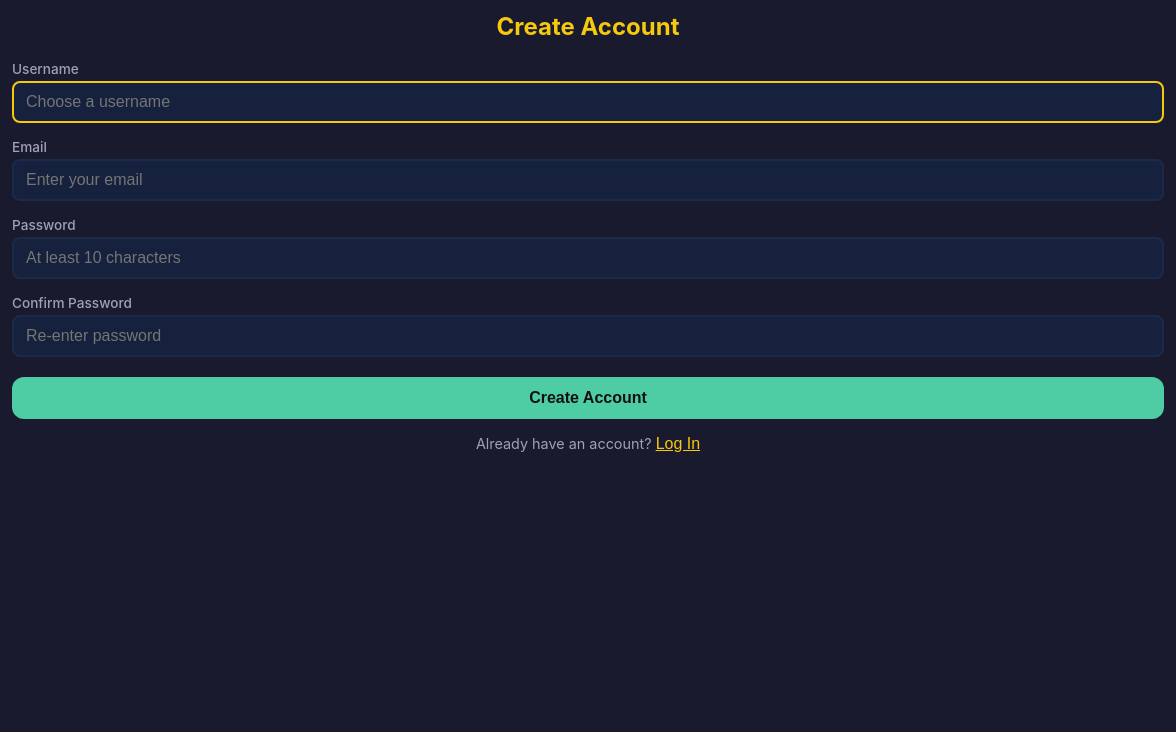
Test: RegisterForm › shows server error on registration failure
In the field labelled "Username": (588, 102) [12, 81, 1164, 123], type "testuser"
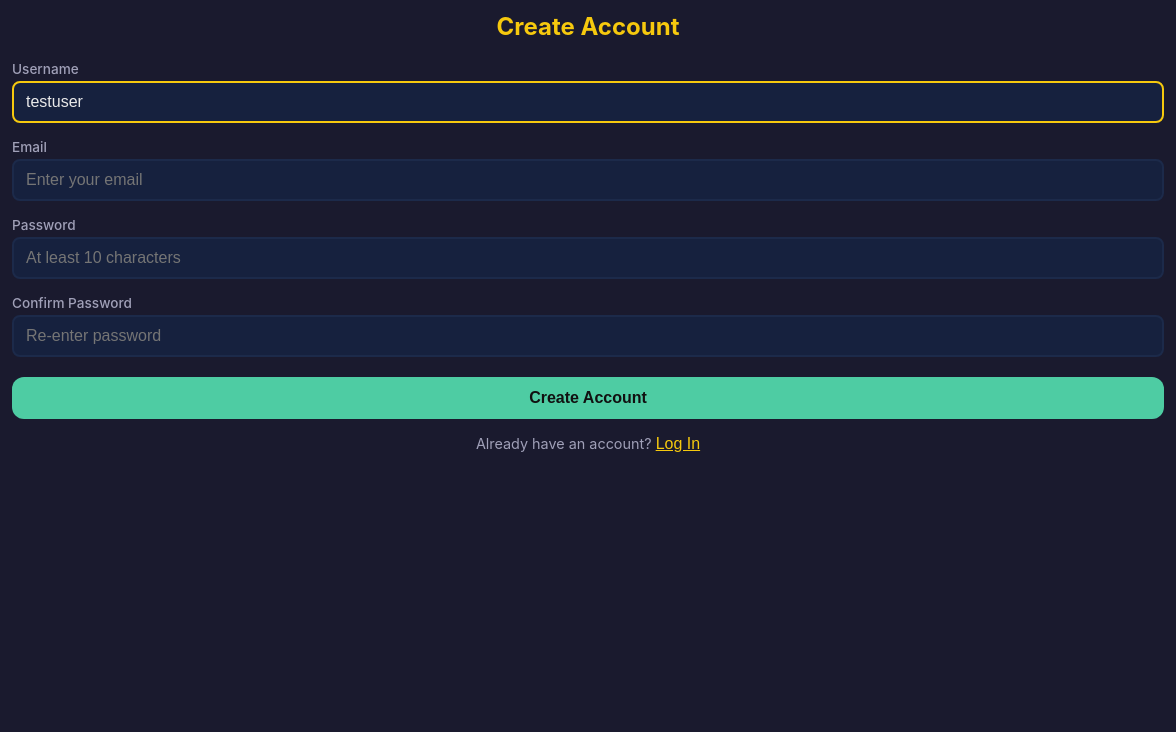
In the field labelled "Email": (588, 180) [12, 159, 1164, 201], type "used@example.com"
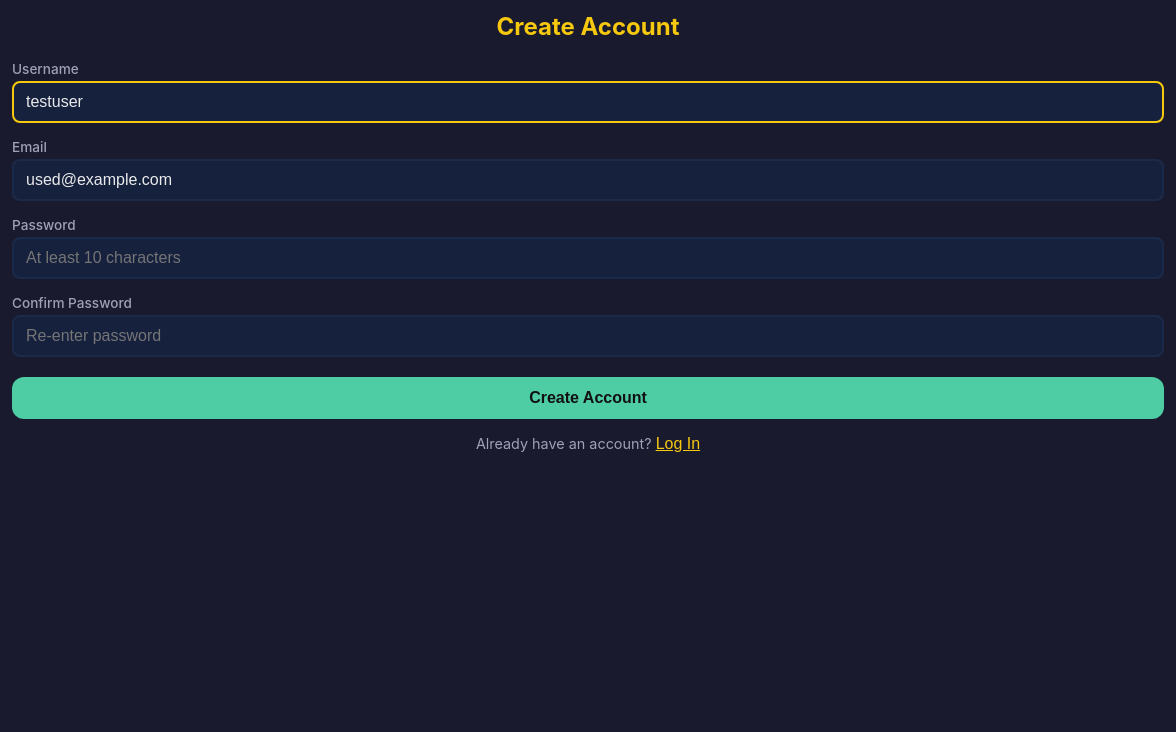
In the password field labelled "Password": (588, 258) [12, 237, 1164, 279], type "password123!"
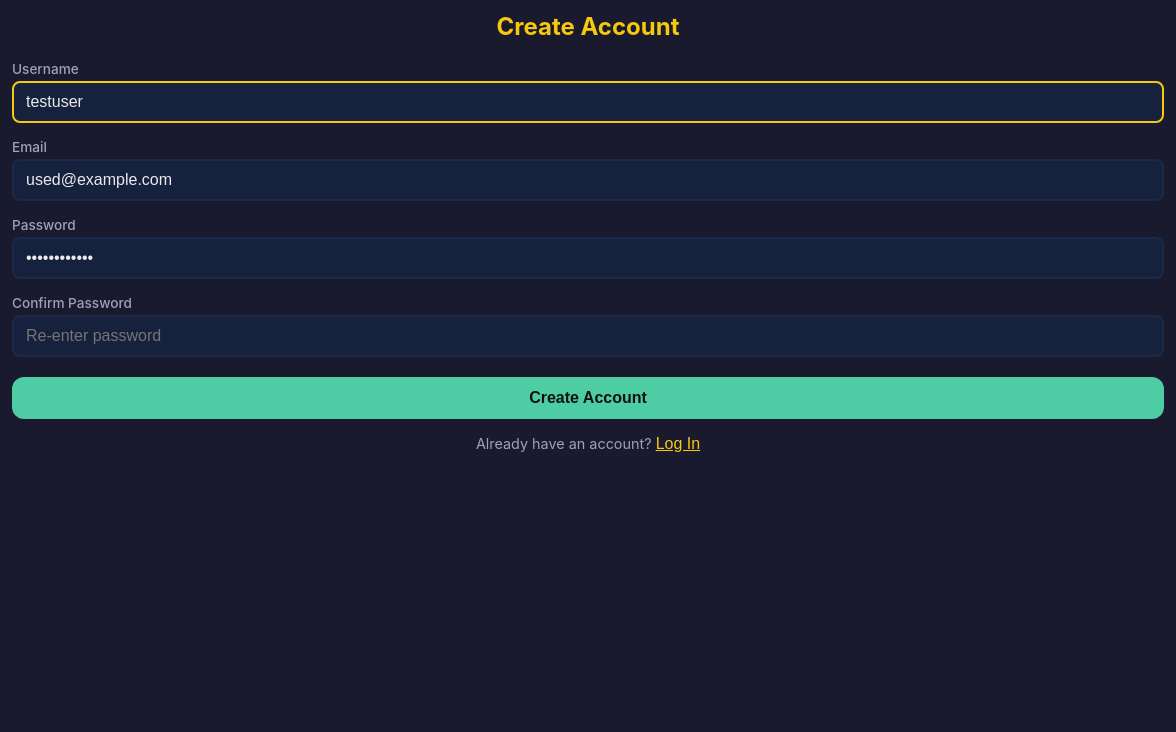
In the password field labelled "Confirm Password": (588, 336) [12, 315, 1164, 357], type "password123!"
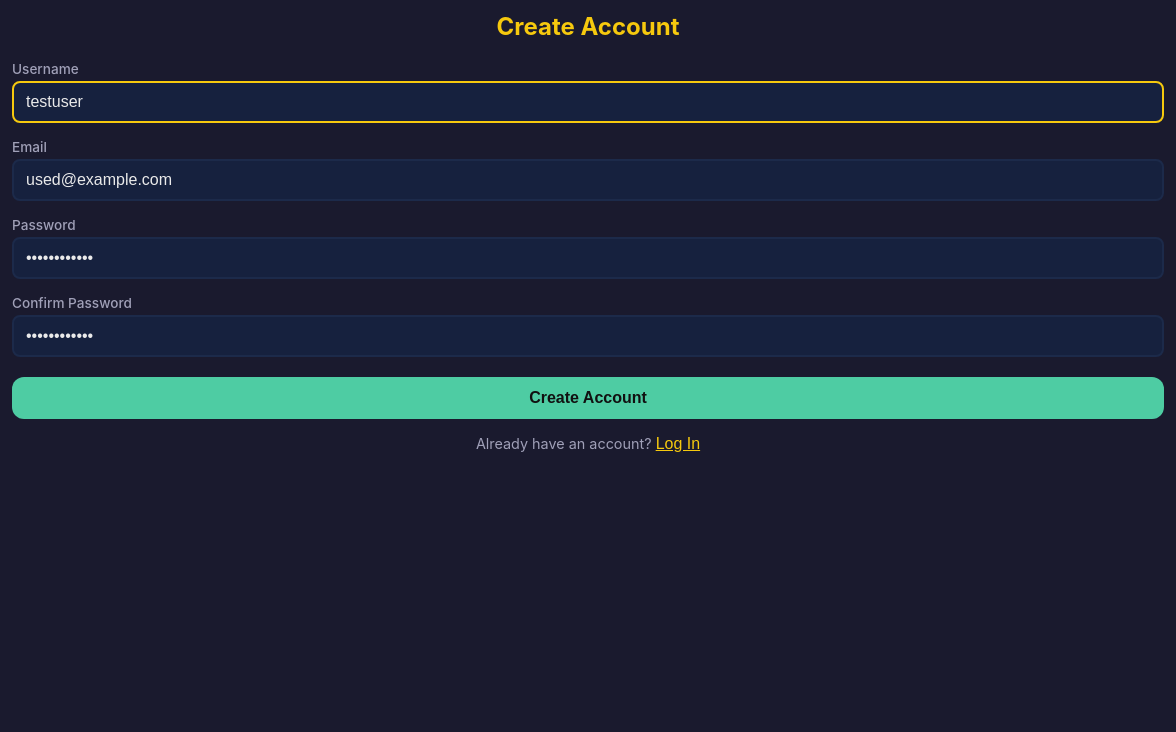
Submit the form labelled "Username", box [12, 12, 1164, 453]
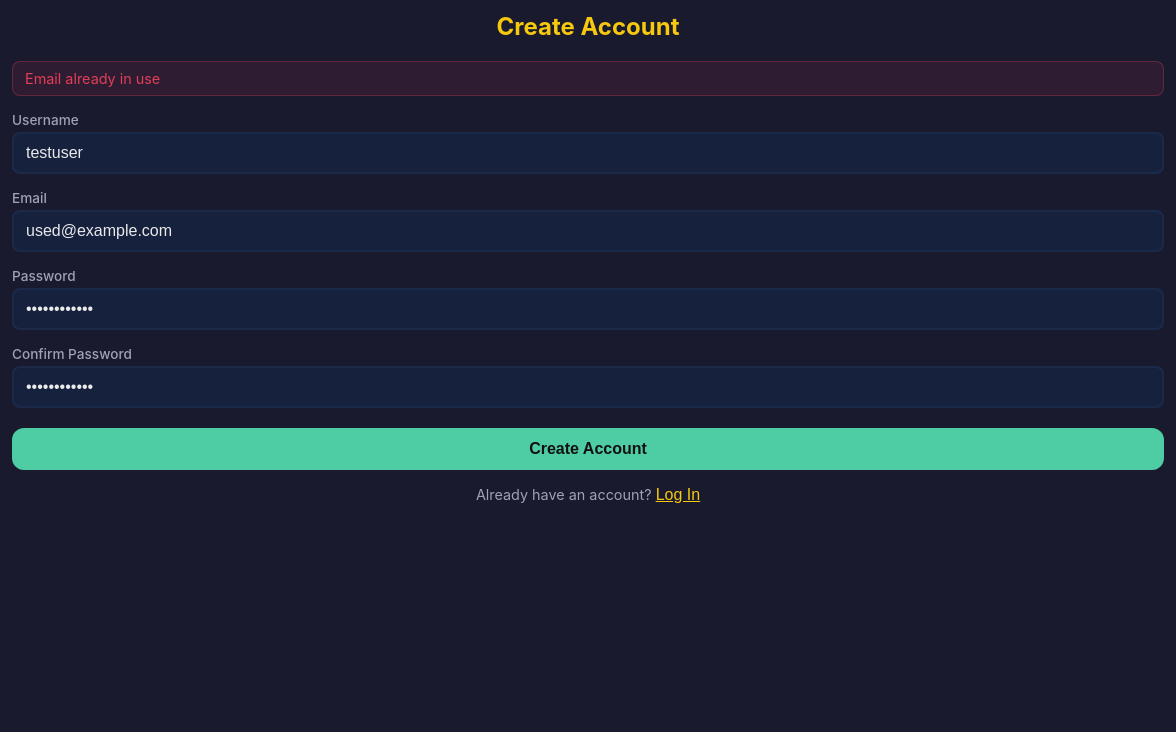
Result: the text "Email already in use" is shown at [12, 61, 1164, 96]
